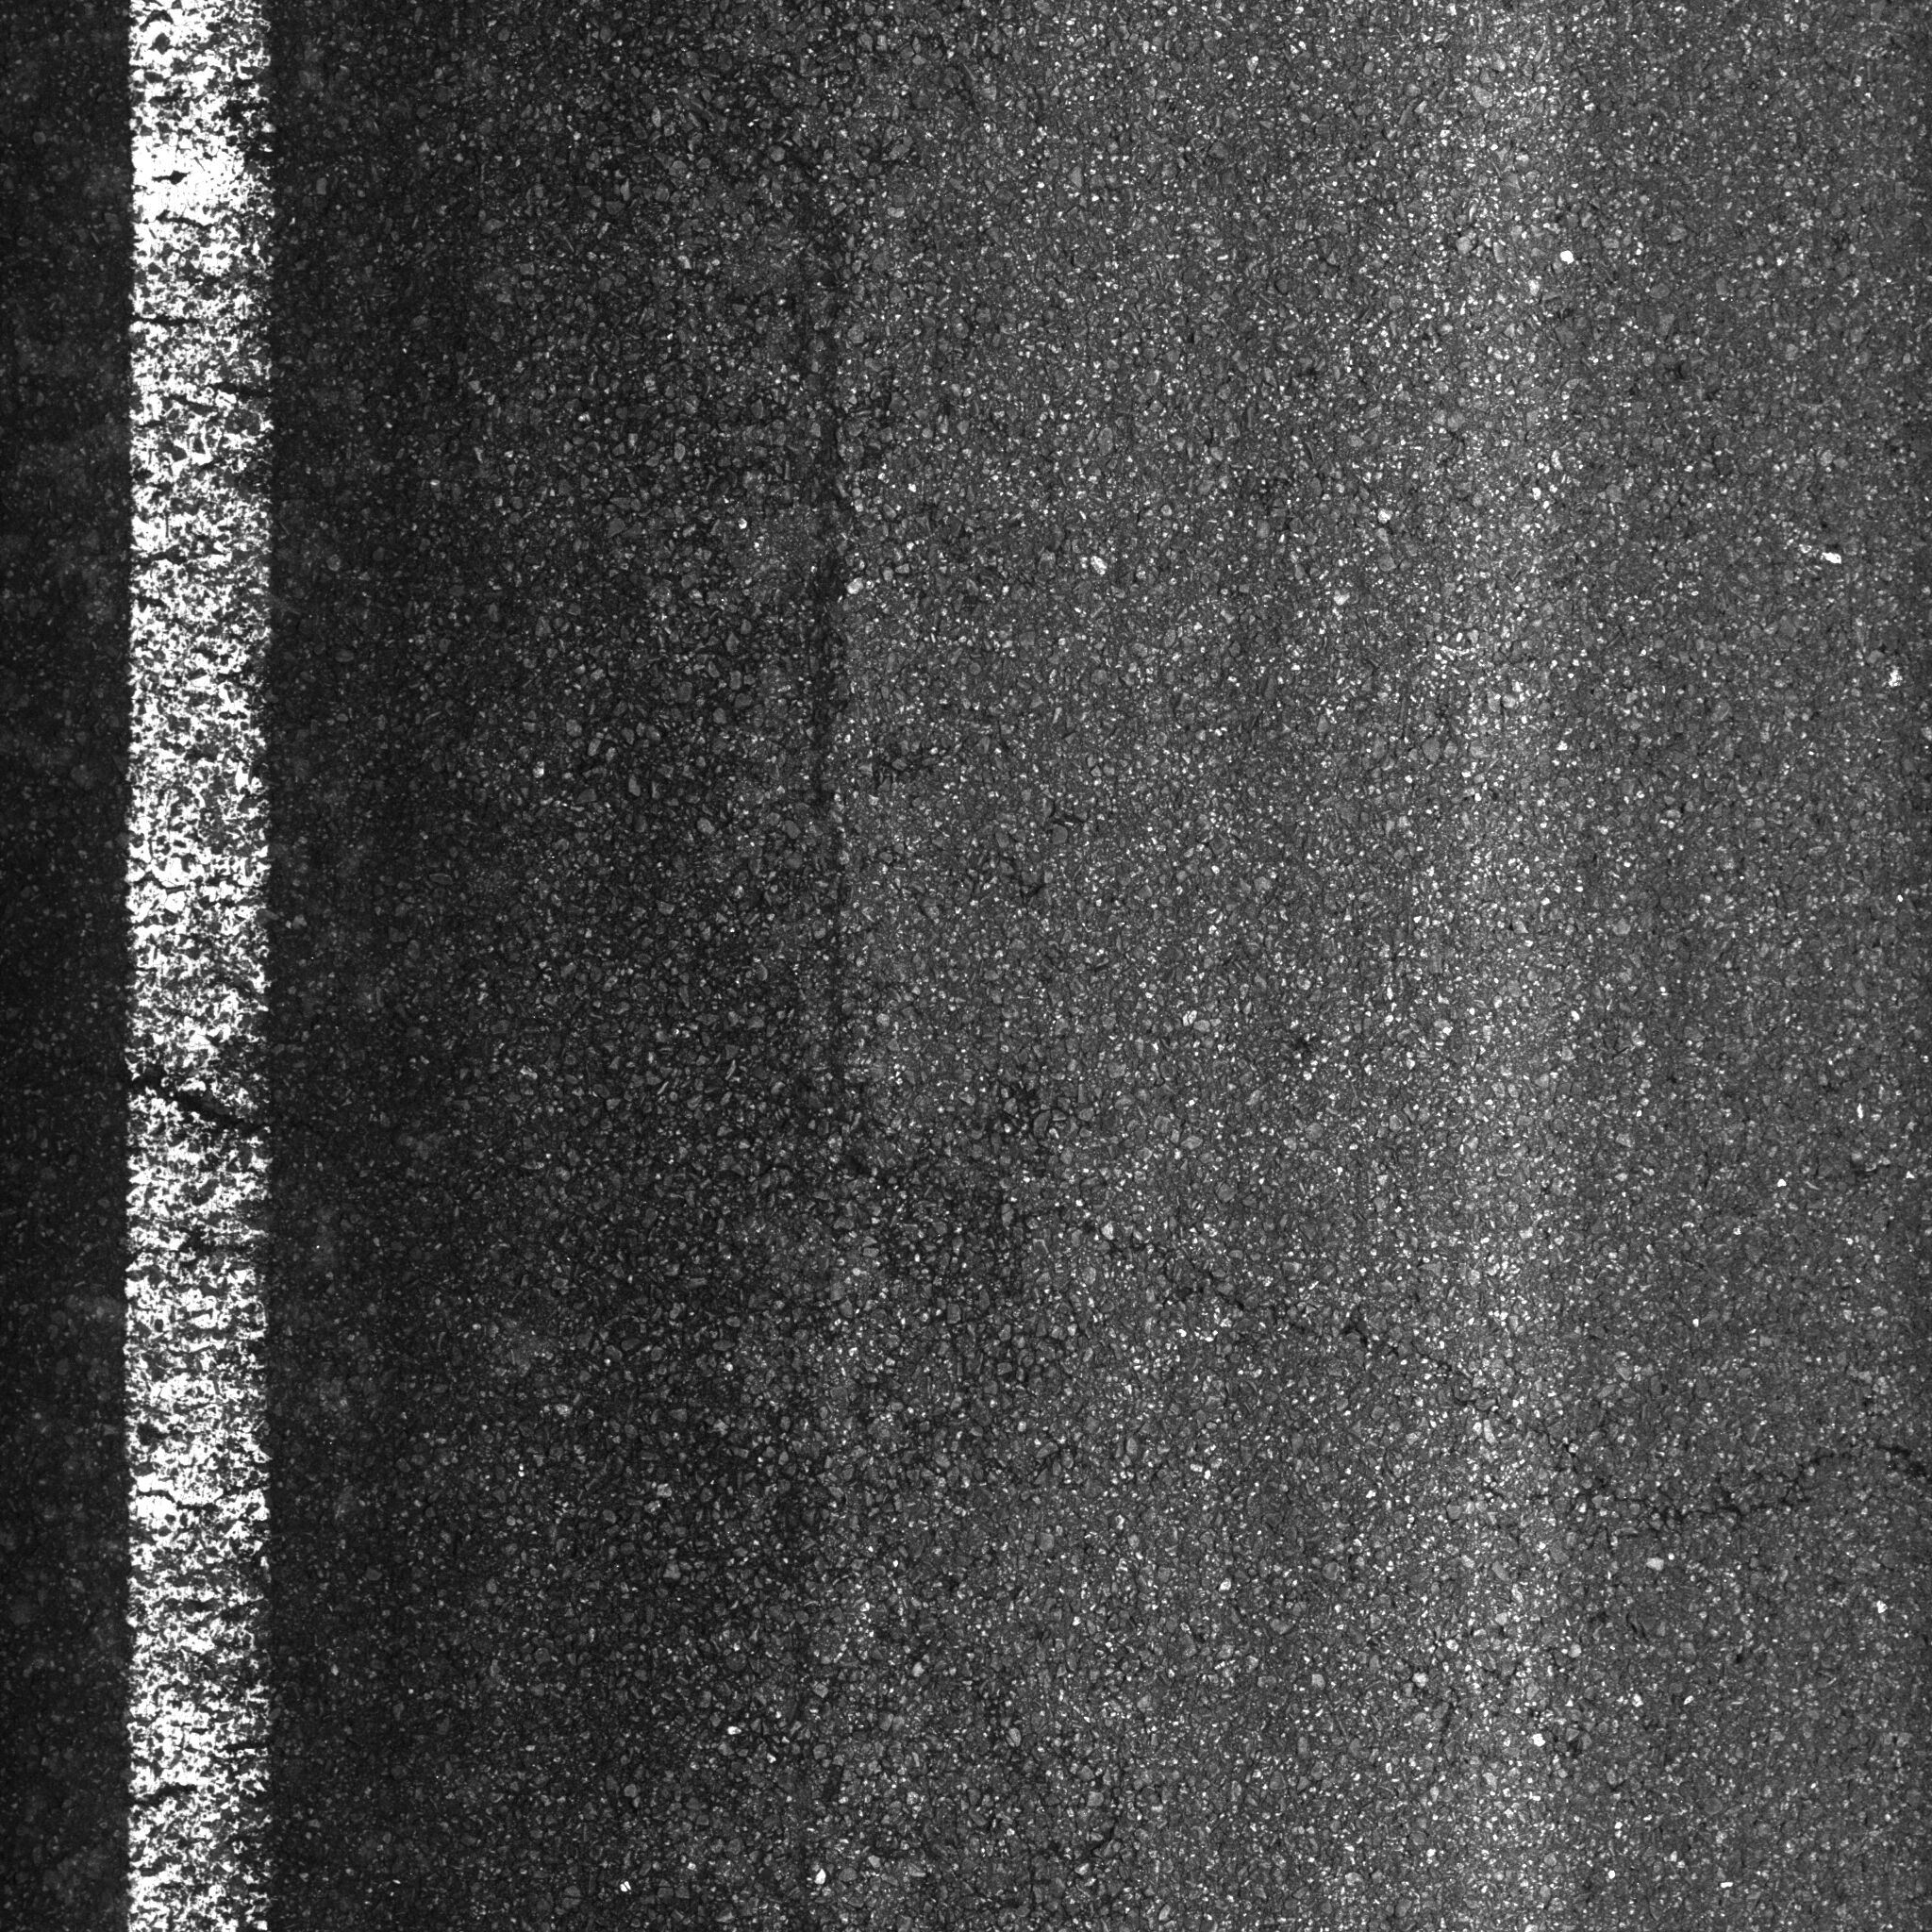transeverse: (771, 1083, 1930, 1539)
